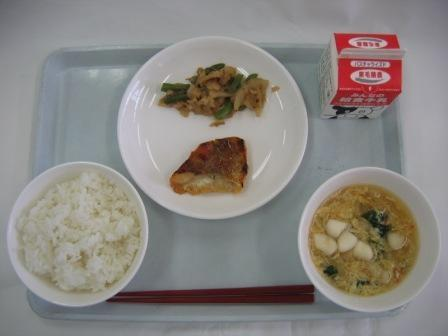Fish: (170, 135, 259, 213)
Milk: (315, 28, 412, 130)
Rice: (6, 165, 154, 307)
Soups: (302, 175, 436, 302)
vegetable based cooked food: (148, 64, 292, 124)
